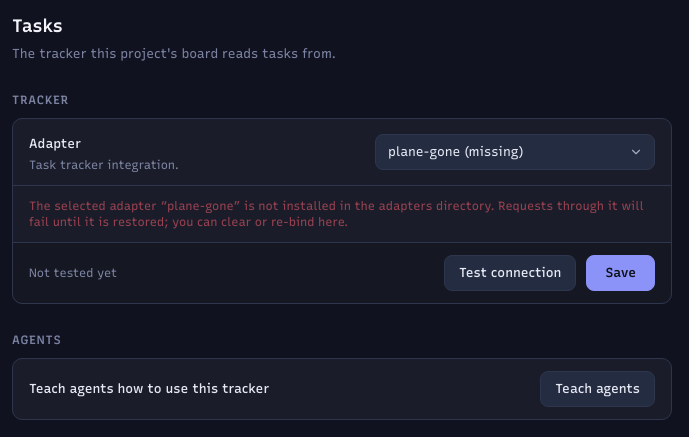
Test case: KanbanSettings › marks a stored binding whose adapter is gone "(missing)" and still allows clearing it
The image size is (689, 437).
Expected: the text with test id "settings-kanban-adapter-missing" shows "not installed", [29,198,644,228]
Select "(none)" in the dropdown with test id "settings-kanban-adapter-select" at (515, 152), box [375,134,655,170]
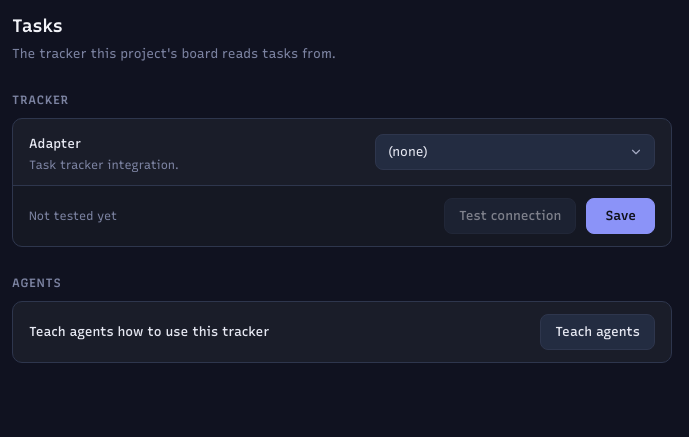
Click the button with test id "settings-kanban-save" at (621, 216), box [586,198,655,234]
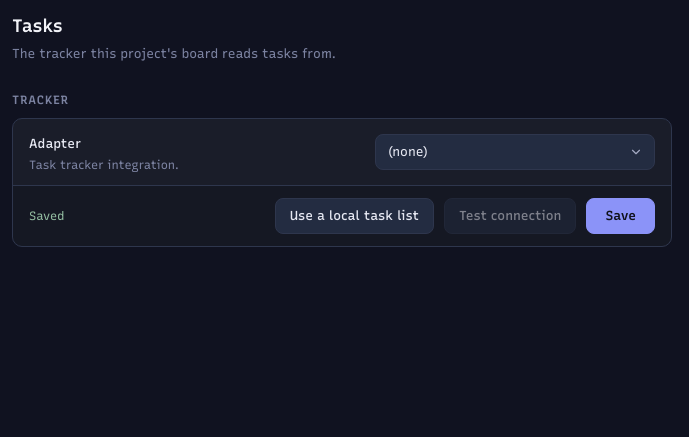
Result: the text "Saved" is shown at [29,208,64,222]
